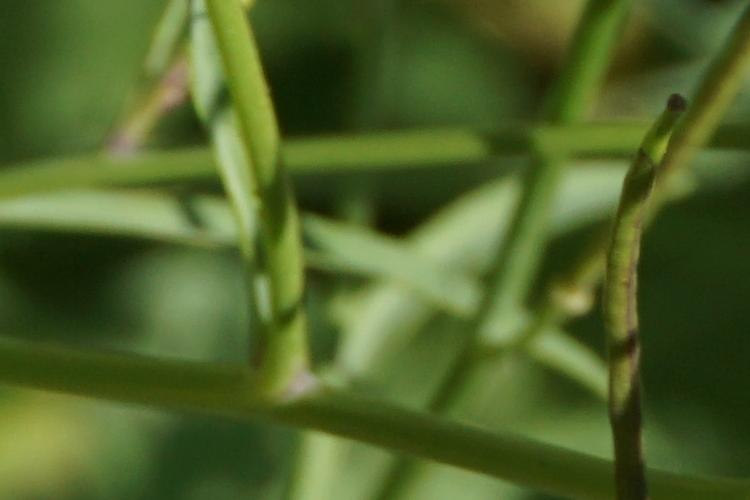pod: (584, 85, 682, 489)
